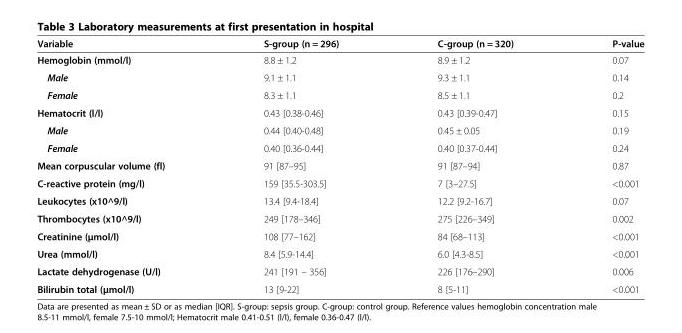table: (36, 37, 643, 294)
table column: (36, 37, 213, 294), (387, 37, 562, 294), (213, 37, 387, 294), (562, 37, 643, 294)
table column header: (36, 37, 643, 51)
table row: (36, 68, 643, 86), (36, 103, 643, 121), (36, 138, 643, 156), (36, 156, 643, 174), (36, 191, 643, 209), (36, 226, 643, 244), (36, 244, 643, 262), (36, 51, 643, 68), (36, 86, 643, 103), (36, 121, 643, 138), (36, 174, 643, 191), (36, 209, 643, 226), (36, 262, 643, 279), (36, 279, 643, 294), (36, 37, 643, 51)
